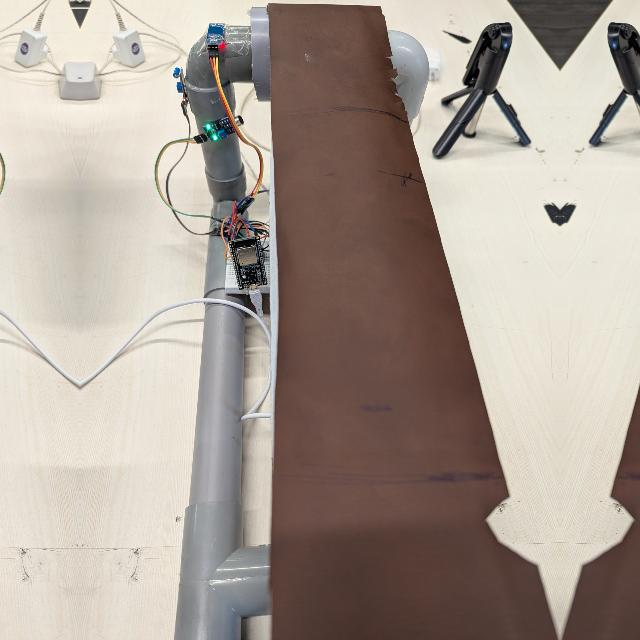edge_damage: (372, 46, 417, 114)
joint_damage: (480, 473, 553, 581), (567, 473, 640, 581)
